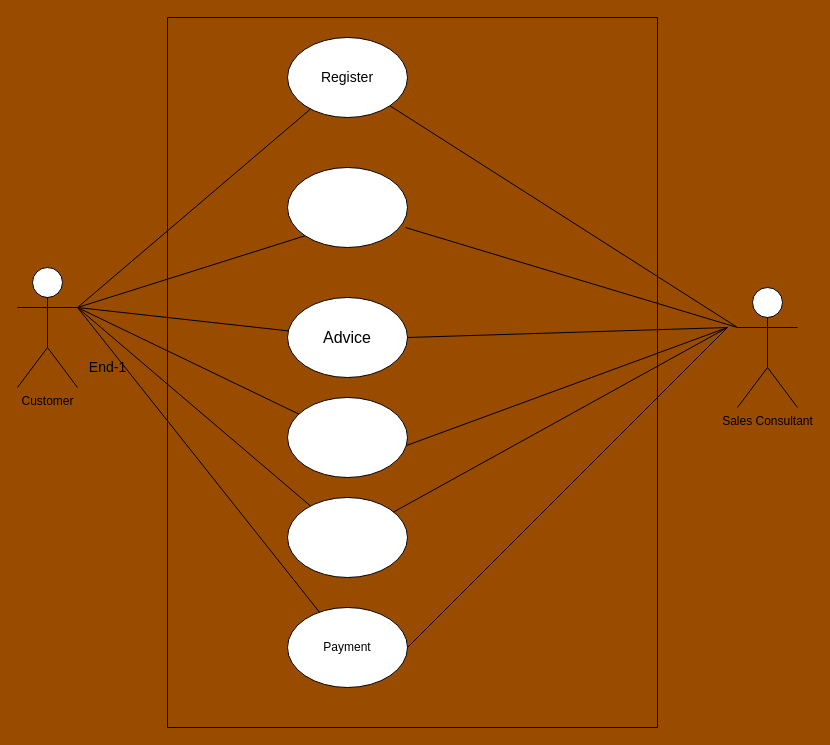
The diagram is 830 pixels wide and 745 high, and some of its shapes have lost their labels. Each missing label, with the box of its shape:
Accept customer holyday: (286, 496, 408, 578)
Boking Holyday: (286, 396, 408, 478)
Conform Customer Requirment: (286, 166, 408, 248)
